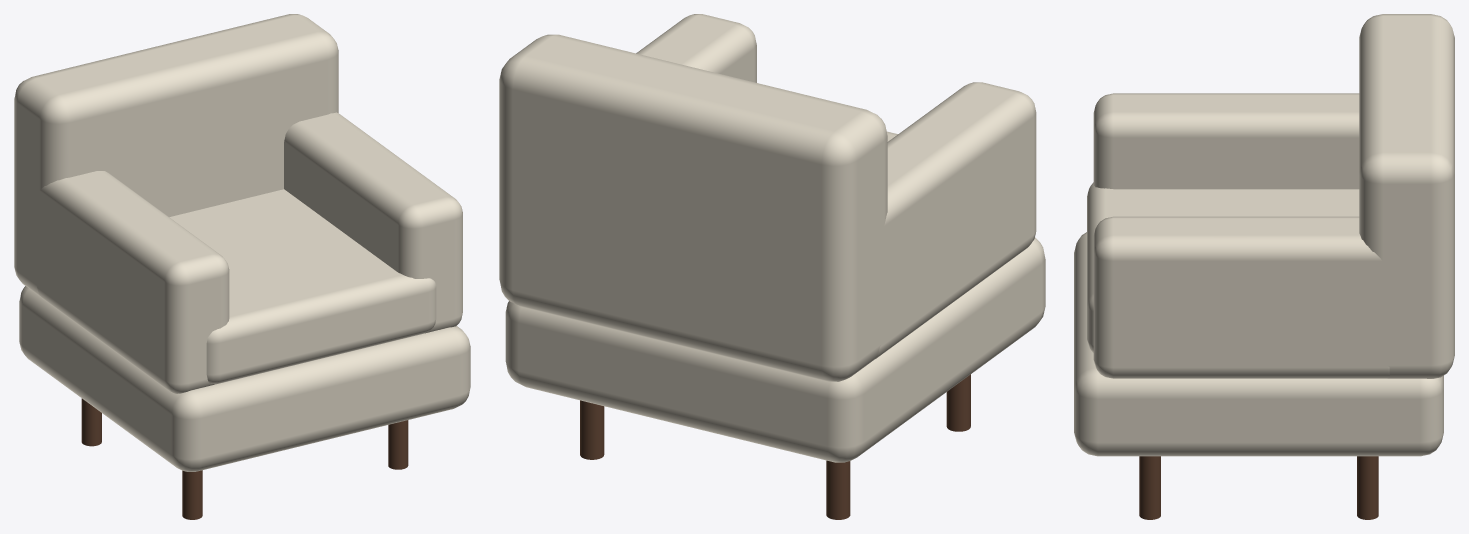
File: officeBoucleChair.glb
3 views of the same model, side by side, from view 1: azimuth 30°, elevation 25°; view 2: azimuth 150°, elevation 25°; view 3: azimuth 270°, elevation 25° (orthographic). The views are drawn at different scales.
Bounding box in the file's own units: 0.85 × 0.955 × 0.875.
